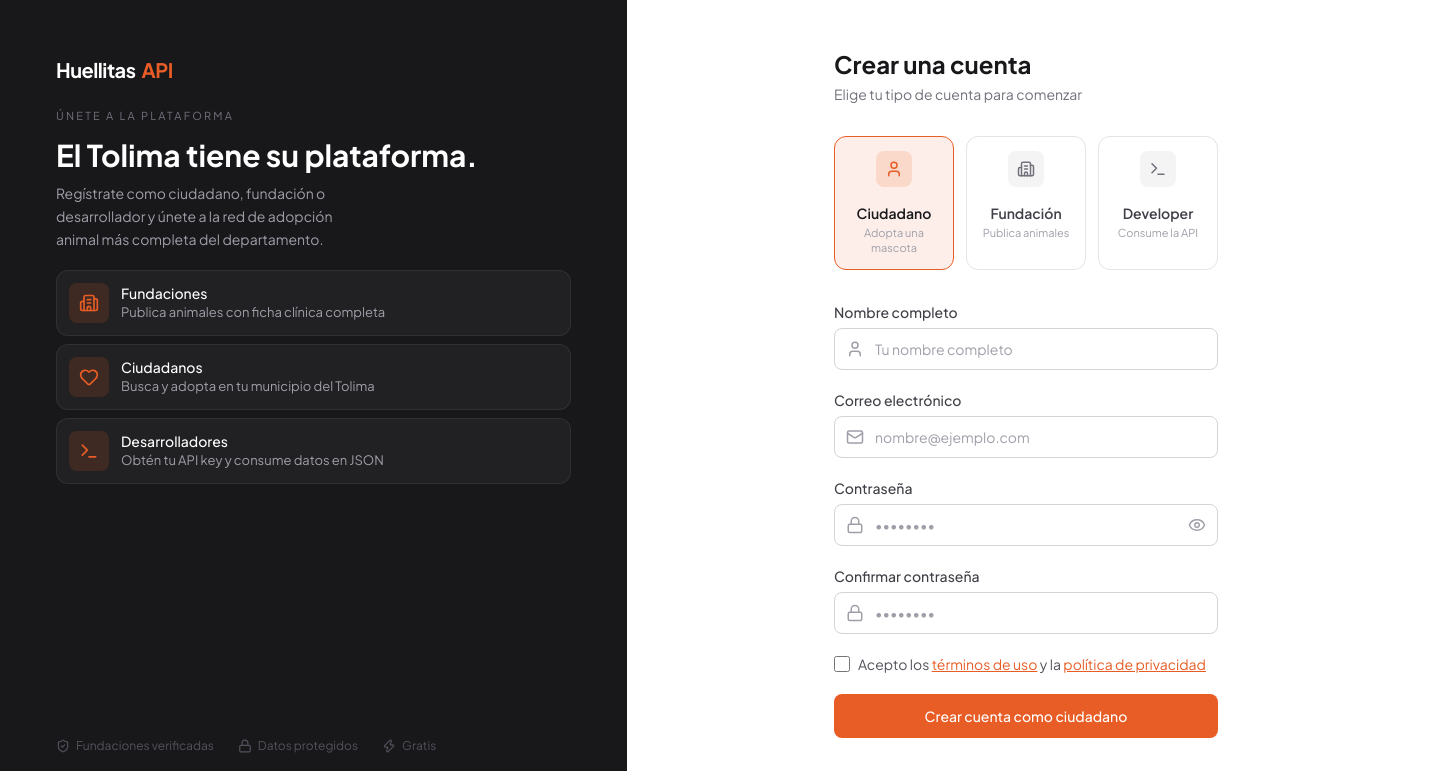
Test: RegisterPage › switches to Fundación account type and shows extra fields
Click the text "Fundación": (1026, 213) top-left (990, 204), bottom-right (1062, 222)
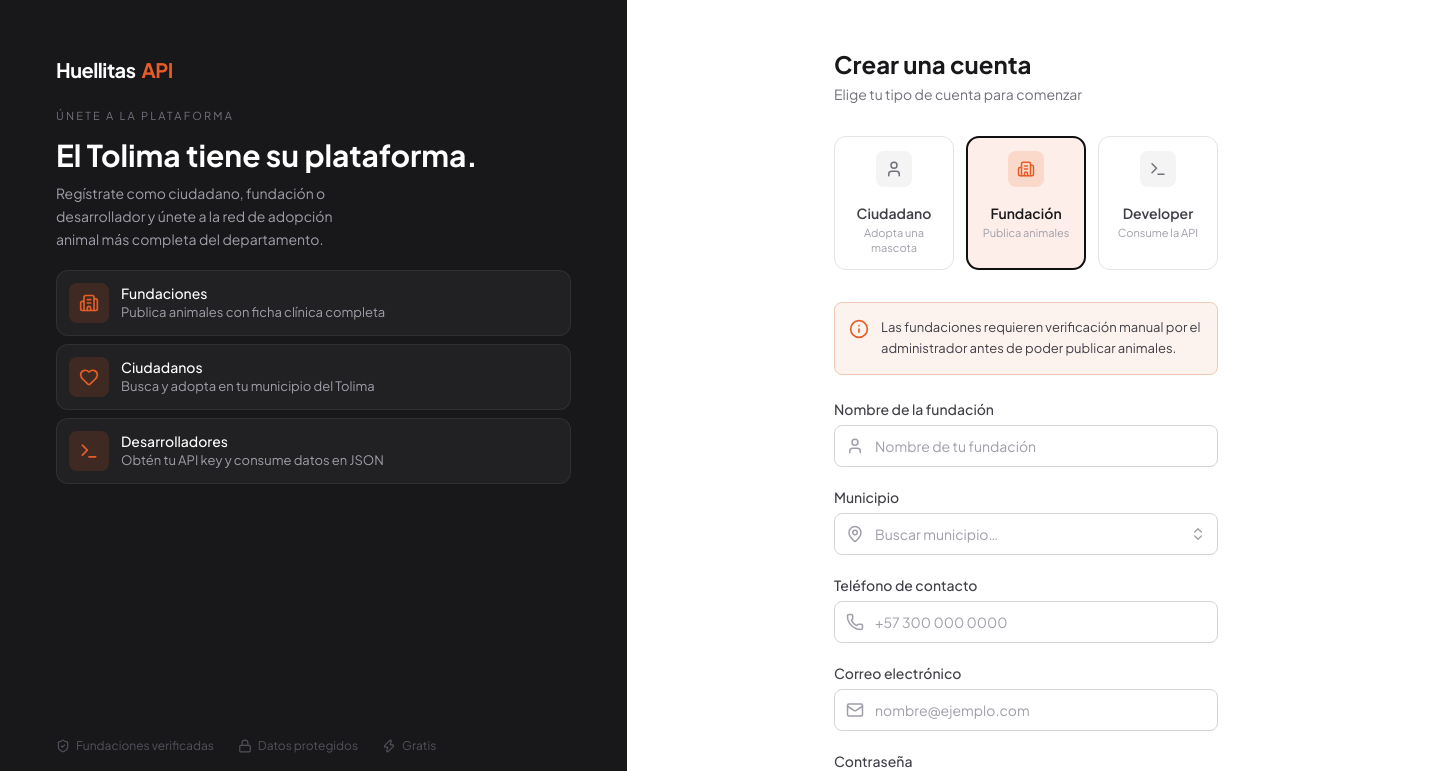
Result: the text "Municipio" is shown at top-left (834, 488), bottom-right (899, 506)
Result: the field labelled "Teléfono de contacto" is shown at top-left (834, 600), bottom-right (1218, 642)
Result: the text "verificación manual" is shown at top-left (881, 319), bottom-right (1200, 356)
